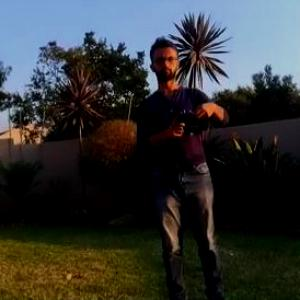follow: (132, 31, 238, 299)
